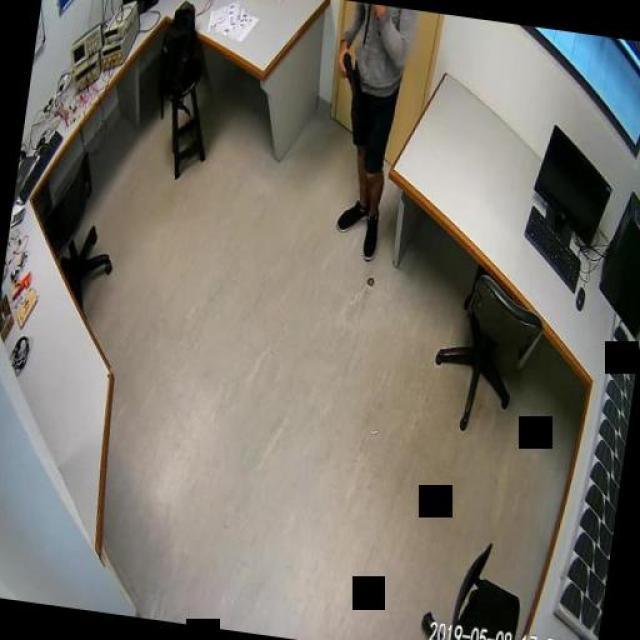gun: (337, 49, 362, 95)
